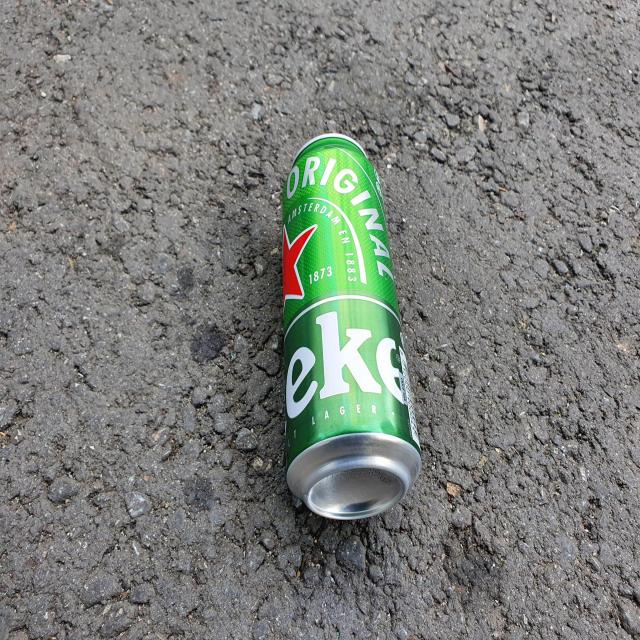can: (283, 132, 422, 520)
